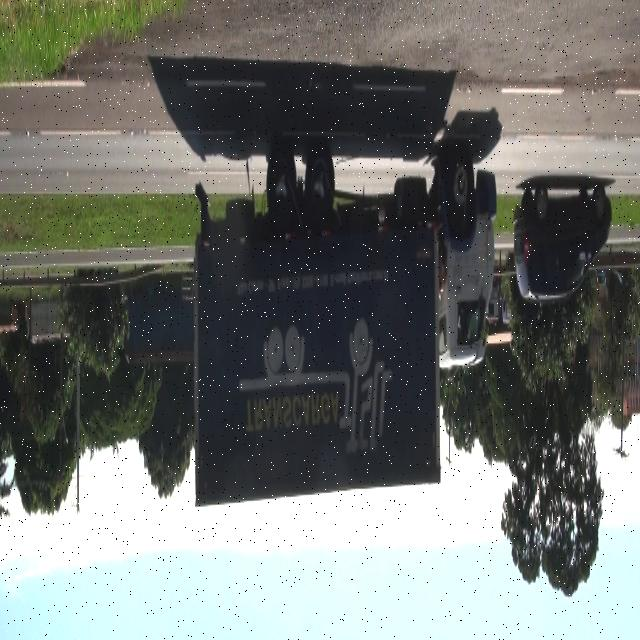-axle: (444, 136, 480, 240), (303, 134, 337, 223), (267, 139, 295, 224)
